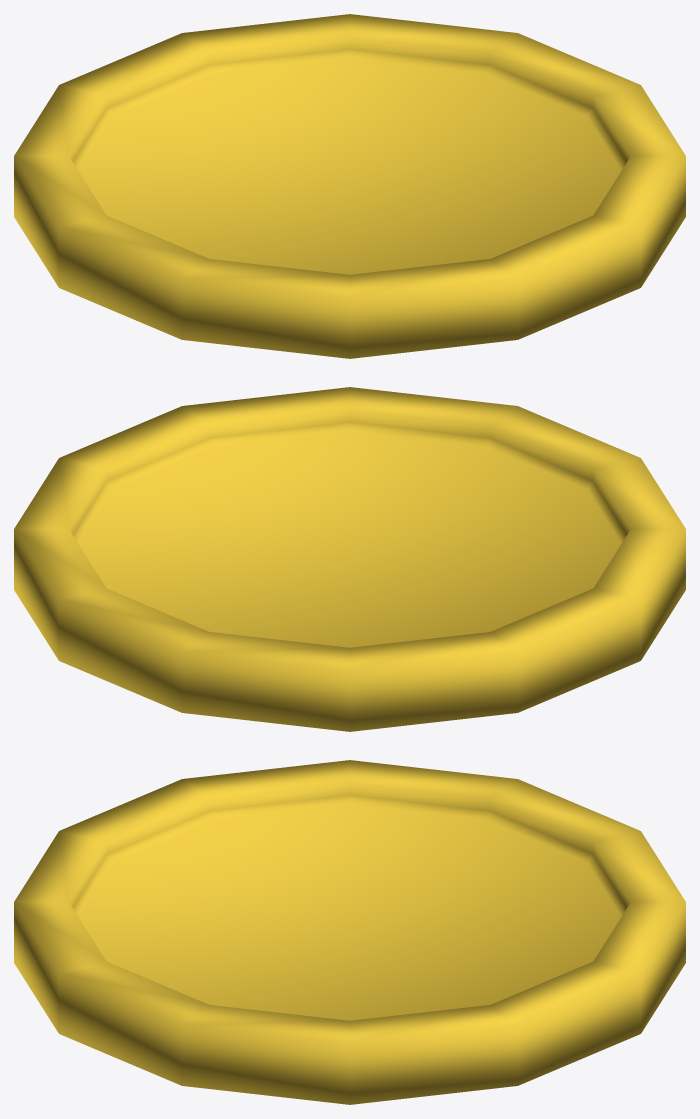
File: coin.fbx
3 views of the same model, one above another, from view 1: azimuth 30°, elevation 25°; view 2: azimuth 150°, elevation 25°; view 3: azimuth 270°, elevation 25° (orthographic).
Parts seen in each view (by area): view 1: coin; view 2: coin; view 3: coin.
Boxes of the visible parts, left/top/right/bottom form: coin: left=14, top=14, right=685, bottom=358; coin: left=14, top=387, right=685, bottom=731; coin: left=14, top=760, right=685, bottom=1104.
Size of the model in its own units: 30 by 3 by 30.
1 material, 1 textured.
